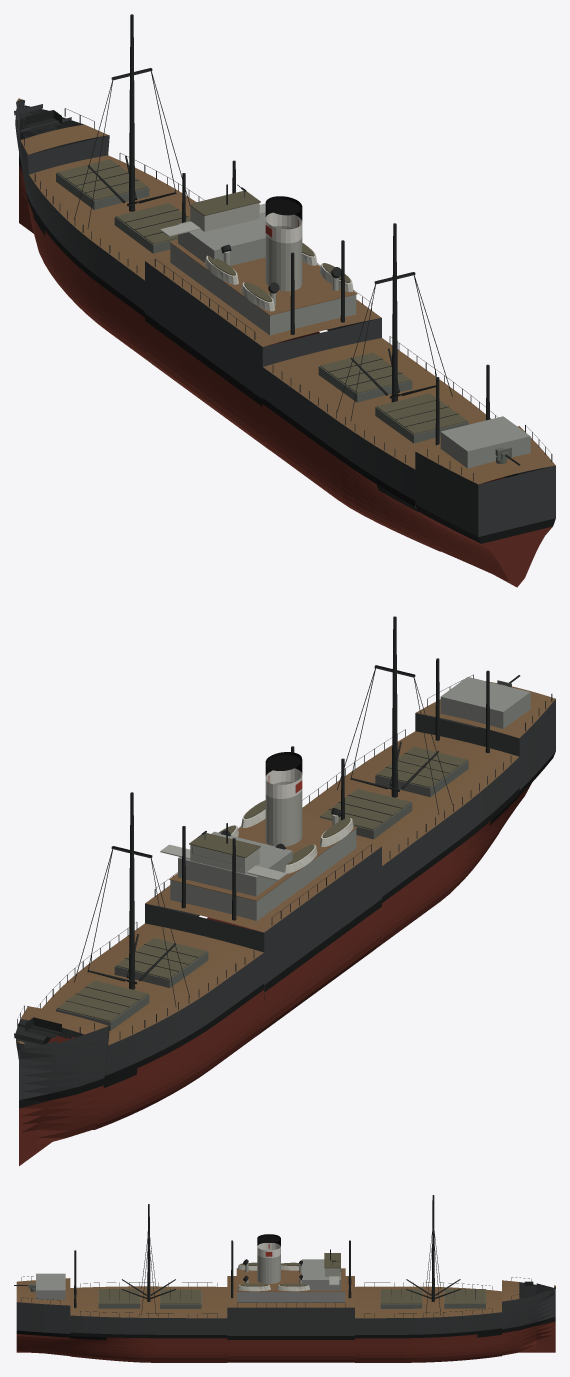
Rendered from cargo_maru.glb.
3 renders of one model, top to bottom at view 1: azimuth 30°, elevation 25°; view 2: azimuth 150°, elevation 25°; view 3: azimuth 270°, elevation 25°, orthographic. The views are drawn at different scales.
Parts seen in each view (by area): view 1: Hull; view 2: Hull; view 3: Hull.
Boxes of the visible parts, bbox=[...] form: Hull: bbox=[14, 14, 555, 587]; Hull: bbox=[14, 616, 555, 1165]; Hull: bbox=[16, 1195, 555, 1362].
Bounding box in the file's own units: 15.2 × 35.39 × 111.
